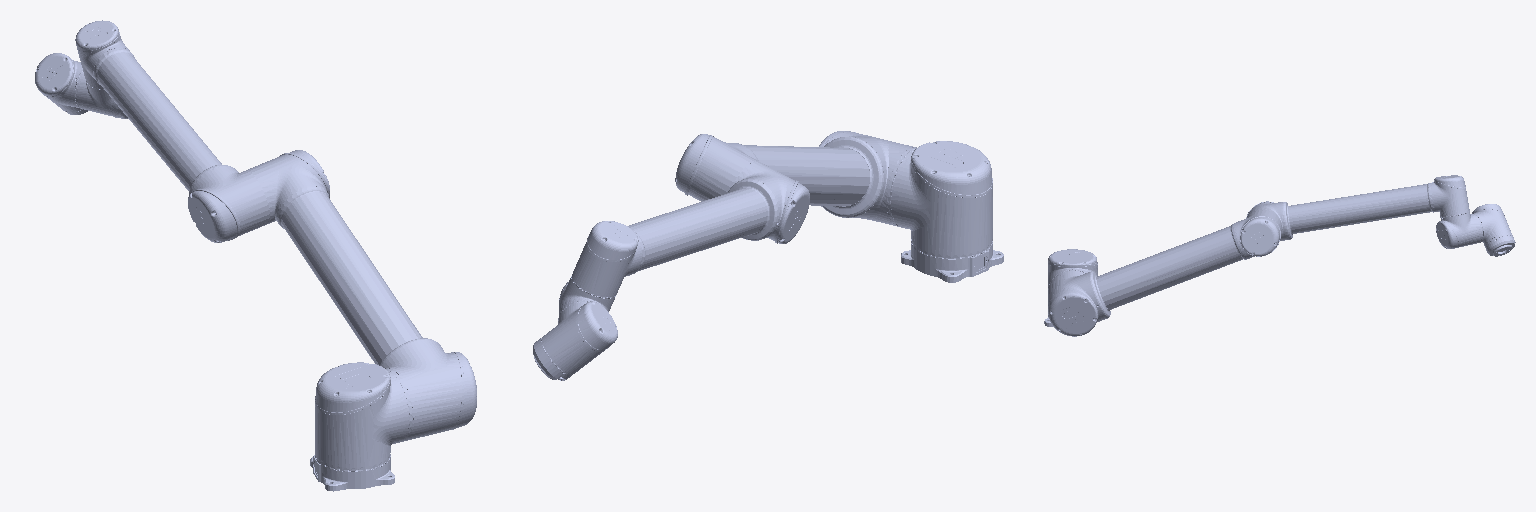
robot.urdf — zhhwur:
<?xml version="1.0" encoding="utf-8"?>
<!-- This URDF was automatically created by SolidWorks to URDF Exporter! Originally created by [author] ([email redacted]) 
     Commit Version: 1.5.1-0-g916b5db  Build Version: 1.5.7152.31018
     For more information, please see http://wiki.ros.org/sw_urdf_exporter -->
<robot
  name="zhhwur">
  <link name="world">
   </link>
  <joint name="fixed" type="fixed">
     <parent link="world"/>
     <child link="base_link"/>
   </joint>
   
  <link
    name="base_link">
    <inertial>
      <origin
        xyz="0.000150607869820062 1.45060687069175E-05 0.0184354408078916"
        rpy="0 0 0" />
      <mass
        value="0.1" />
      <inertia
        ixx="0.1"
        ixy="0.1"
        ixz="0.1"
        iyy="0.1"
        iyz="0.1"
        izz="0.1" />
    </inertial>
    <visual>
      <origin
        xyz="0 0 0"
        rpy="0 0 0" />
      <geometry>
        <mesh
          filename="package://zhhwur/meshes/base_link.STL" />
      </geometry>
      <material
        name="">
        <color
          rgba="0.792156862745098 0.819607843137255 0.933333333333333 1" />
      </material>
    </visual>
    <collision>
      <origin
        xyz="0 0 0"
        rpy="0 0 0" />
      <geometry>
        <mesh
          filename="package://zhhwur/meshes/base_link.STL" />
      </geometry>
    </collision>
  </link>
  <link
    name="m1">
    <inertial>
      <origin
        xyz="0.0120385752274126 -0.000118284553780864 0.0784763878349876"
        rpy="0 0 0" />
      <mass
        value="3.07358882111625" />
      <inertia
        ixx="0.107166800813381"
        ixy="0.0"
        ixz="-0.00858448119002905"
        iyy="0.11477402586057"
        iyz="0.0"
        izz="0.101200063941481" />
    </inertial>
    <visual>
      <origin
        xyz="0 0 0"
        rpy="0 0 0" />
      <geometry>
        <mesh
          filename="package://zhhwur/meshes/m1.STL" />
      </geometry>
      <material
        name="">
        <color
          rgba="0.792156862745098 0.819607843137255 0.933333333333333 1" />
      </material>
    </visual>
    <collision>
      <origin
        xyz="0 0 0"
        rpy="0 0 0" />
      <geometry>
        <mesh
          filename="package://zhhwur/meshes/m1.STL" />
      </geometry>
    </collision>
  </link>
  <joint
    name="j1"
    type="continuous">
    <origin
      xyz="-0.00011719 9.3527E-05 0.038"
      rpy="0 0 0" />
    <parent
      link="base_link" />
    <child
      link="m1" />
    <axis
      xyz="0 0 -1" />
  </joint>
  <link
    name="m2">
    <inertial>
      <origin
        xyz="0.187414749480675 -1.82665069576315E-05 0.0851997268225625"
        rpy="0 0 0" />
      <mass
        value="7.37869630043743" />
      <inertia
        ixx="0.172074860582987"
        ixy="0.0"
        ixz="-0.00858589354481182"
        iyy="0.936339985456334"
        iyz="0.0"
        izz="0.92276196715791" />
    </inertial>
    <visual>
      <origin
        xyz="0 0 0"
        rpy="0 0 0" />
      <geometry>
        <mesh
          filename="package://zhhwur/meshes/m2.STL" />
      </geometry>
      <material
        name="">
        <color
          rgba="0.792156862745098 0.819607843137255 0.933333333333333 1" />
      </material>
    </visual>
    <collision>
      <origin
        xyz="0 0 0"
        rpy="0 0 0" />
      <geometry>
        <mesh
          filename="package://zhhwur/meshes/m2.STL" />
      </geometry>
    </collision>
  </link>
  <joint
    name="j2"
    type="continuous">
    <origin
      xyz="0.086424 -0.0001115 0.090017"
      rpy="1.5708 -0.39649 1.5708" />
    <parent
      link="m1" />
    <child
      link="m2" />
    <axis
      xyz="0 0 -1" />
  </joint>
  <link
    name="m3">
    <inertial>
      <origin
        xyz="0.0101482746186852 -0.00242654471722409 0.0563792430636668"
        rpy="0 0 0" />
      <mass
        value="1.33384705337391" />
      <inertia
        ixx="0.265289034166969"
        ixy="0.0"
        ixz="-0.00262430271565663"
        iyy="0.0288046030833349"
        iyz="0.0"
        izz="0.0270989320172714" />
    </inertial>
    <visual>
      <origin
        xyz="0 0 0"
        rpy="0 0 0" />
      <geometry>
        <mesh
          filename="package://zhhwur/meshes/m3.STL" />
      </geometry>
      <material
        name="">
        <color
          rgba="0.792156862745098 0.819607843137255 0.933333333333333 1" />
      </material>
    </visual>
    <collision>
      <origin
        xyz="0 0 0"
        rpy="0 0 0" />
      <geometry>
        <mesh
          filename="package://zhhwur/meshes/m3.STL" />
      </geometry>
    </collision>
  </link>
  <joint
    name="j3"
    type="continuous">
    <origin
      xyz="0.54659 -1.4844E-05 0.09"
      rpy="0 1.5708 0" />
    <parent
      link="m2" />
    <child
      link="m3" />
    <axis
      xyz="0 0 -1" />
  </joint>
  <link
    name="m4">
    <inertial>
      <origin
        xyz="0.194385676174124 -0.0467572257603565 0.0576772007454893"
        rpy="0 0 0" />
      <mass
        value="3.9249452668649" />
      <inertia
        ixx="0.0742207603460274"
        ixy="0.103846937239433"
        ixz="-0.00215152400740903"
        iyy="0.480998830803436"
        iyz="0.0"
        izz="0.505397973213196" />
    </inertial>
    <visual>
      <origin
        xyz="0 0 0"
        rpy="0 0 0" />
      <geometry>
        <mesh
          filename="package://zhhwur/meshes/m4.STL" />
      </geometry>
      <material
        name="">
        <color
          rgba="0.792156862745098 0.819607843137255 0.933333333333333 1" />
      </material>
    </visual>
    <collision>
      <origin
        xyz="0 0 0"
        rpy="0 0 0" />
      <geometry>
        <mesh
          filename="package://zhhwur/meshes/m4.STL" />
      </geometry>
    </collision>
  </link>
  <joint
    name="j4"
    type="continuous">
    <origin
      xyz="0.066294 -0.015618 0.0663"
      rpy="-1.5708 -1.1281 -1.8022" />
    <parent
      link="m3" />
    <child
      link="m4" />
    <axis
      xyz="0 0 -1" />
  </joint>
  <link
    name="m5">
    <inertial>
      <origin
        xyz="0.00844364418067306 0.00484997225383069 0.0463987108592474"
        rpy="0 0 0" />
      <mass
        value="0.728421636932666" />
      <inertia
        ixx="0.00940936280484602"
        ixy="0.0"
        ixz="0.0"
        iyy="0.105771840789441"
        iyz="0.0"
        izz="0.0103084524548609" />
    </inertial>
    <visual>
      <origin
        xyz="0 0 0"
        rpy="0 0 0" />
      <geometry>
        <mesh
          filename="package://zhhwur/meshes/m5.STL" />
      </geometry>
      <material
        name="">
        <color
          rgba="0.792156862745098 0.819607843137255 0.933333333333333 1" />
      </material>
    </visual>
    <collision>
      <origin
        xyz="0 0 0"
        rpy="0 0 0" />
      <geometry>
        <mesh
          filename="package://zhhwur/meshes/m5.STL" />
      </geometry>
    </collision>
  </link>
  <joint
    name="j5"
    type="continuous">
    <origin
      xyz="0.50325 -0.12105 0.0597"
      rpy="1.5708 0.62528 1.3347" />
    <parent
      link="m4" />
    <child
      link="m5" />
    <axis
      xyz="0 0 -1" />
  </joint>
  <link
    name="m6">
    <inertial>
      <origin
        xyz="0.00973342590359794 -0.000274260299313323 0.0463997718526749"
        rpy="0 0 0" />
      <mass
        value="0.728410383146444" />
      <inertia
        ixx="0.00883852127610963"
        ixy="0.0"
        ixz="0.0"
        iyy="0.0111481955887067"
        iyz="0.0"
        izz="0.10308601425051" />
    </inertial>
    <visual>
      <origin
        xyz="0 0 0"
        rpy="0 0 0" />
      <geometry>
        <mesh
          filename="package://zhhwur/meshes/m6.STL" />
      </geometry>
      <material
        name="">
        <color
          rgba="0.792156862745098 0.819607843137255 0.933333333333333 1" />
      </material>
    </visual>
    <collision>
      <origin
        xyz="0 0 0"
        rpy="0 0 0" />
      <geometry>
        <mesh
          filename="package://zhhwur/meshes/m6.STL" />
      </geometry>
    </collision>
  </link>
  <joint
    name="j6"
    type="continuous">
    <origin
      xyz="0.05351 0.030717 0.054"
      rpy="1.5708 -1.0123 2.0919" />
    <parent
      link="m5" />
    <child
      link="m6" />
    <axis
      xyz="0 0 -1" />
  </joint>
  <link
    name="m7">
    <inertial>
      <origin
        xyz="0.00729691377255892 0.00644799503505561 0.0463999978814778"
        rpy="0 0 0" />
      <mass
        value="0.7284058489887" />
      <inertia
        ixx="0.0098495794878621"
        ixy="-0.00114787493858272"
        ixz="-6.80597462910239E-05"
        iyy="0.101367875422333"
        iyz="-6.00897587717074E-05"
        izz="0.0103083771798053" />
    </inertial>
    <visual>
      <origin
        xyz="0 0 0"
        rpy="0 0 0" />
      <geometry>
        <mesh
          filename="package://zhhwur/meshes/m7.STL" />
      </geometry>
      <material
        name="">
        <color
          rgba="0.792156862745098 0.819607843137255 0.933333333333333 1" />
      </material>
    </visual>
    <collision>
      <origin
        xyz="0 0 0"
        rpy="0 0 0" />
      <geometry>
        <mesh
          filename="package://zhhwur/meshes/m7.STL" />
      </geometry>
    </collision>
  </link>
  <joint
    name="j7"
    type="continuous">
    <origin
      xyz="0.061675 -0.0017598 0.054"
      rpy="1.5708 -0.36325 1.5423" />
    <parent
      link="m6" />
    <child
      link="m7" />
    <axis
      xyz="0 0 -1" />
  </joint>
  <link
    name="m8">
    <inertial>
      <origin
        xyz="5.18774530877675E-05 0.000947997445179344 -0.0130389304554449"
        rpy="0 0 0" />
      <mass
        value="0.159236475568111" />
      <inertia
        ixx="8.19282289692367E-05"
        ixy="3.18914571058767E-07"
        ixz="2.58517571240618E-08"
        iyy="8.77408935801743E-05"
        iyz="4.72040615677252E-07"
        izz="0.149632275316311" />
    </inertial>
    <visual>
      <origin
        xyz="0 0 0"
        rpy="0 0 0" />
      <geometry>
        <mesh
          filename="package://zhhwur/meshes/m8.STL" />
      </geometry>
      <material
        name="">
        <color
          rgba="0.792156862745098 0.819607843137255 0.933333333333333 1" />
      </material>
    </visual>
    <collision>
      <origin
        xyz="0 0 0"
        rpy="0 0 0" />
      <geometry>
        <mesh
          filename="package://zhhwur/meshes/m8.STL" />
      </geometry>
    </collision>
  </link>
  <joint
    name="j8"
    type="continuous">
    <origin
      xyz="0.046244 0.040846 0.054"
      rpy="-1.5708 1.0025 2.2943" />
    <parent
      link="m7" />
    <child
      link="m8" />
    <axis
      xyz="0 0 1" />
  </joint>
  <!-- Gazebo related part -->
  <gazebo>
  <plugin name="gazebo_ros_control" filename="libgazebo_ros_control.so">
  <robotNamespace>/zhhwur</robotNamespace>
  </plugin>
  </gazebo>
  
  
  
  
  <!-- transmision -->
  <transmission name="tran1">
  <type>transmission_interface/SimpleTransmission</type>
  <actuator name="motor1">
  <mechanicalReduction>1</mechanicalReduction>
  </actuator>
  <joint name="j1">
    <hardwareInterface>hardware_interface/EffortJointInterface</hardwareInterface>
  </joint>
  </transmission>
    <transmission name="tran2">
  <type>transmission_interface/SimpleTransmission</type>
  <actuator name="motor2">
  <mechanicalReduction>1</mechanicalReduction>
  </actuator>
  <joint name="j2">
    <hardwareInterface>hardware_interface/EffortJointInterface</hardwareInterface>
  </joint>
  </transmission>
    <transmission name="tran3">
  <type>transmission_interface/SimpleTransmission</type>
  <actuator name="motor3">
  <mechanicalReduction>1</mechanicalReduction>
  </actuator>
  <joint name="j3">
    <hardwareInterface>hardware_interface/EffortJointInterface</hardwareInterface>
  </joint>
  </transmission>
    <transmission name="tran4">
  <type>transmission_interface/SimpleTransmission</type>
  <actuator name="motor4">
  <mechanicalReduction>1</mechanicalReduction>
  </actuator>
  <joint name="j4">
    <hardwareInterface>hardware_interface/EffortJointInterface</hardwareInterface>
  </joint>
  </transmission>
    <transmission name="tran5">
  <type>transmission_interface/SimpleTransmission</type>
  <actuator name="motor5">
  <mechanicalReduction>1</mechanicalReduction>
  </actuator>
  <joint name="j5">
    <hardwareInterface>hardware_interface/EffortJointInterface</hardwareInterface>
  </joint>
  </transmission>
    <transmission name="tran6">
  <type>transmission_interface/SimpleTransmission</type>
  <actuator name="motor6">
  <mechanicalReduction>1</mechanicalReduction>
  </actuator>
  <joint name="j6">
    <hardwareInterface>hardware_interface/EffortJointInterface</hardwareInterface>
  </joint>
  </transmission>
    <transmission name="tran7">
  <type>transmission_interface/SimpleTransmission</type>
  <actuator name="motor7">
  <mechanicalReduction>1</mechanicalReduction>
  </actuator>
  <joint name="j7">
    <hardwareInterface>hardware_interface/EffortJointInterface</hardwareInterface>
  </joint>
  </transmission>
    <transmission name="tran8">
  <type>transmission_interface/SimpleTransmission</type>
  <actuator name="motor8">
  <mechanicalReduction>1</mechanicalReduction>
  </actuator>
  <joint name="j8">
    <hardwareInterface>hardware_interface/EffortJointInterface</hardwareInterface>
  </joint>
  </transmission>
</robot>

--- Render facts (derived) ---
The picture shows the robot from 3 angles, left to right: view 1: azimuth 30°, elevation 25°; view 2: azimuth 150°, elevation 25°; view 3: azimuth 270°, elevation 25°; orthographic projection.
Robot: zhhwur — 10 links, 9 joints (8 continuous, 1 fixed); root link world; default pose: every joint at zero.
Visible links, largest first — view 1: m2, m4, m1, m3, m7, m5, base_link, m6; view 2: m1, m4, m2, m5, m7, m3, base_link, m6, m8; view 3: m2, m4, m3, m6, m5, m1, m7.
Boxes of the visible links, left/top/right/bottom form: m2: left=277, top=187, right=476, bottom=441; m4: left=94, top=48, right=269, bottom=242; m1: left=315, top=362, right=408, bottom=471; m3: left=248, top=150, right=329, bottom=223; m7: left=35, top=53, right=82, bottom=111; m5: left=75, top=20, right=129, bottom=89; base_link: left=310, top=455, right=394, bottom=491; m6: left=75, top=70, right=127, bottom=118; m1: left=891, top=141, right=992, bottom=258; m4: left=628, top=161, right=809, bottom=273; m2: left=741, top=131, right=916, bottom=226; m5: left=571, top=221, right=642, bottom=298; m7: left=541, top=301, right=617, bottom=375; m3: left=675, top=134, right=757, bottom=201; base_link: left=901, top=244, right=1003, bottom=282; m6: left=558, top=276, right=615, bottom=320; m8: left=533, top=338, right=570, bottom=380; m2: left=1048, top=224, right=1246, bottom=336; m4: left=1246, top=183, right=1435, bottom=240; m3: left=1233, top=210, right=1281, bottom=258; m6: left=1436, top=213, right=1482, bottom=248; m5: left=1431, top=175, right=1469, bottom=217; m1: left=1048, top=249, right=1097, bottom=286; m7: left=1472, top=204, right=1512, bottom=247.
Size in the robot's own frame: 0.3478 by 1.41 by 0.51 metres.
9 mesh visuals loaded from 9 distinct referenced files (9 binary STL).
